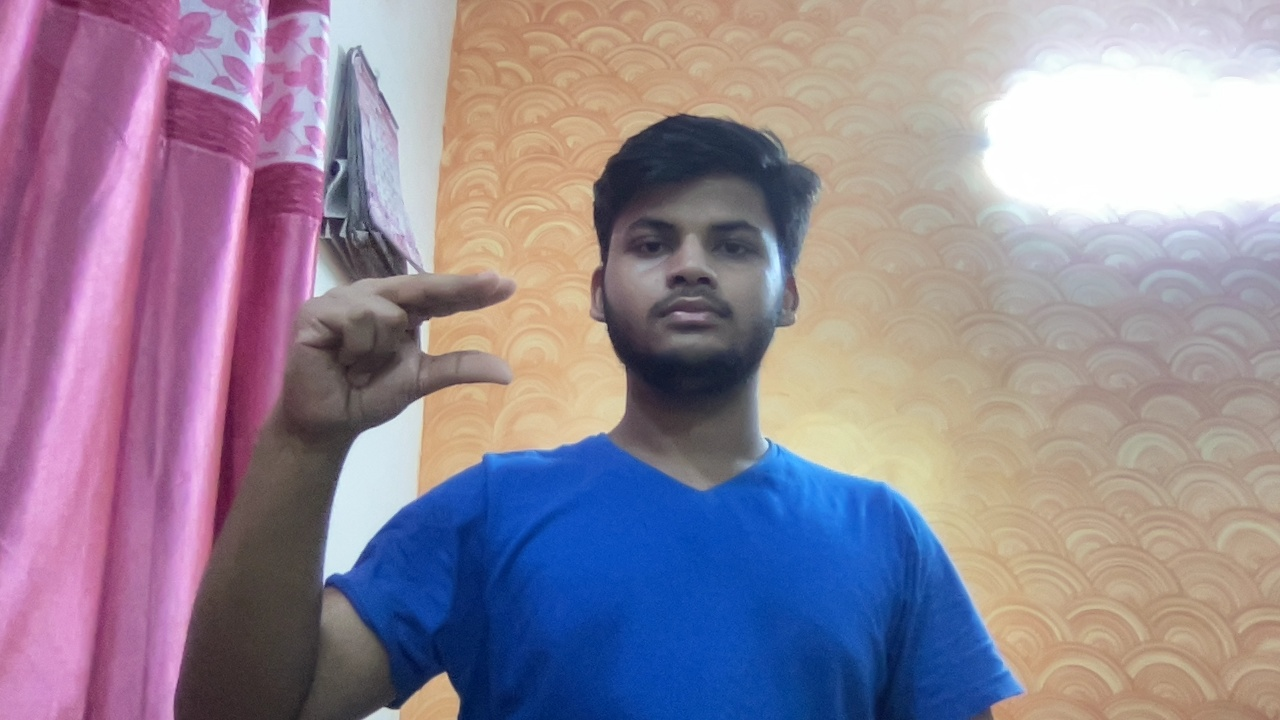no: (270, 260, 541, 443)
